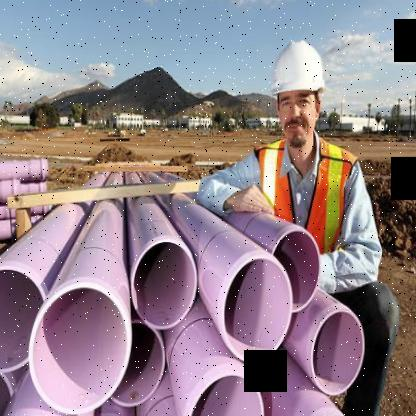pipe: (28, 285, 131, 415), (224, 258, 292, 363), (132, 240, 196, 329), (111, 321, 165, 408), (0, 266, 44, 372), (312, 308, 365, 395), (273, 229, 321, 313), (189, 373, 264, 416)
